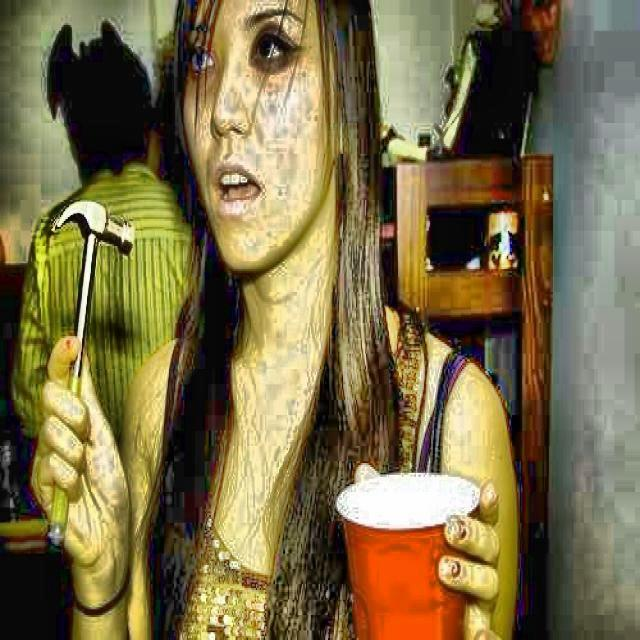hammer: (38, 200, 137, 543)
